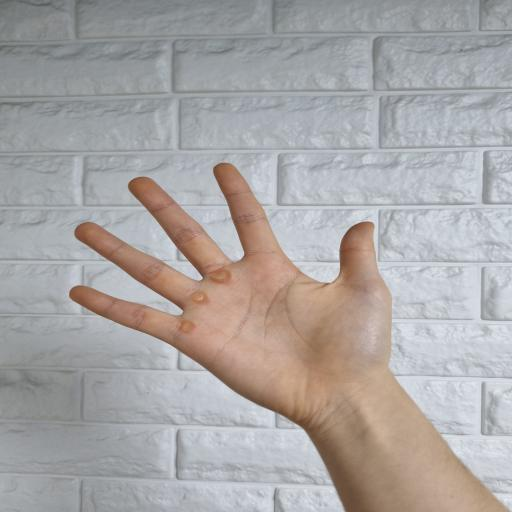Paper: (68, 162, 396, 425)
